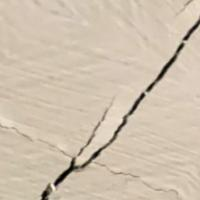crack: (42, 19, 199, 199)
